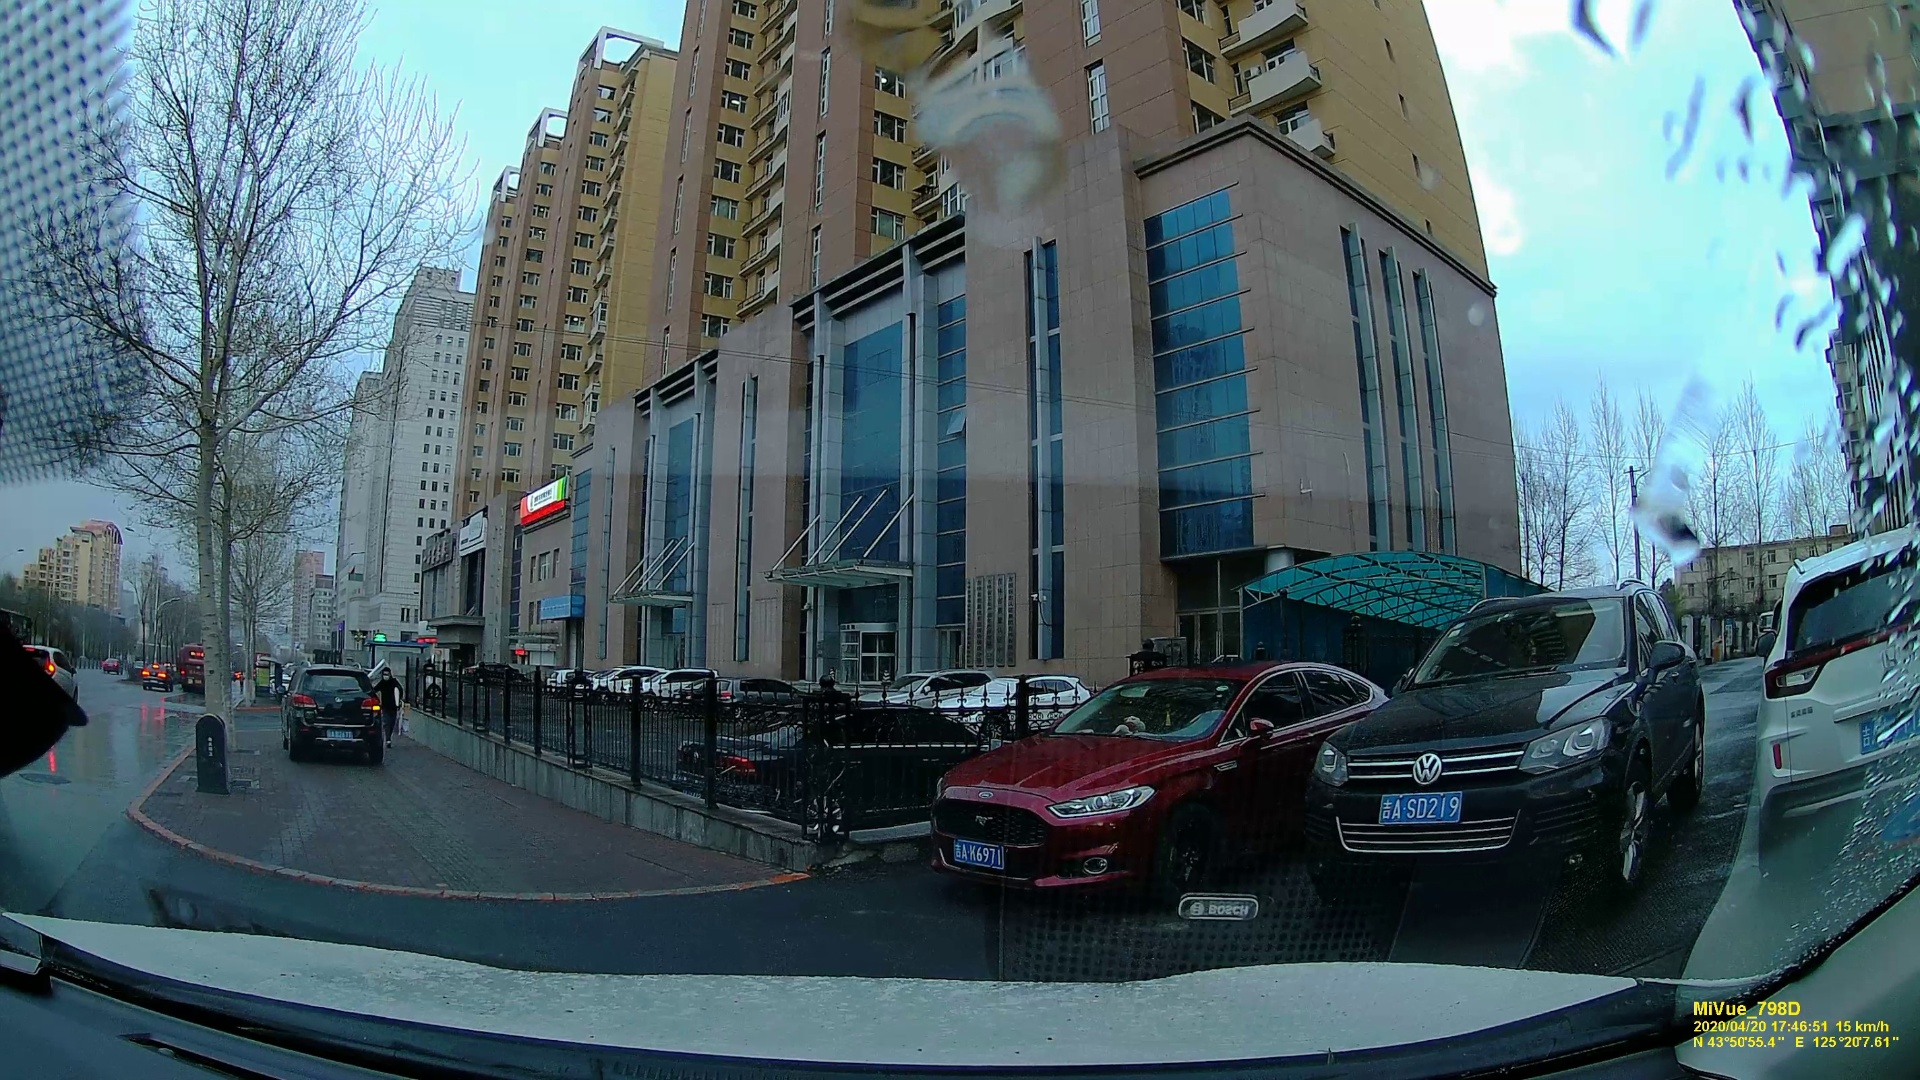person: (372, 662, 398, 742)
vehicle: (1313, 579, 1720, 866), (933, 647, 1381, 908), (278, 668, 380, 770), (132, 665, 165, 690)
